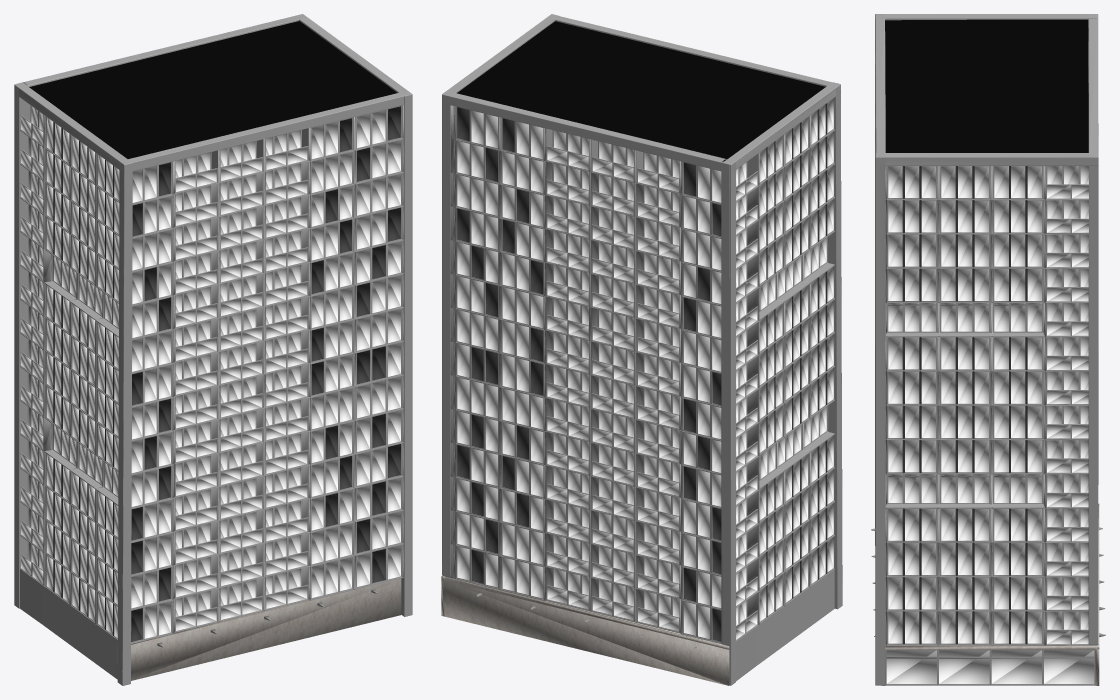
File: user_city_bldg_1.glb
The picture shows the model from 3 angles, left to right: view 1: azimuth 30°, elevation 25°; view 2: azimuth 150°, elevation 25°; view 3: azimuth 270°, elevation 25°; orthographic projection.
Parts seen in each view (by area): view 1: user_city_bldg_1; view 2: user_city_bldg_1; view 3: user_city_bldg_1.
Boxes of the visible parts, box(x1,y1,x2,y2) form: user_city_bldg_1: box(14, 14, 412, 685); user_city_bldg_1: box(441, 14, 842, 685); user_city_bldg_1: box(871, 14, 1105, 685).
Size of the model in its own units: 15.18 by 26 by 10.47.
6 materials, 1 textured.
